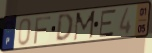0: (17, 16, 33, 47)
4: (118, 5, 134, 37)
D: (55, 13, 74, 44)
E: (98, 8, 117, 39)
F: (33, 15, 52, 45)
M: (72, 9, 97, 42)
